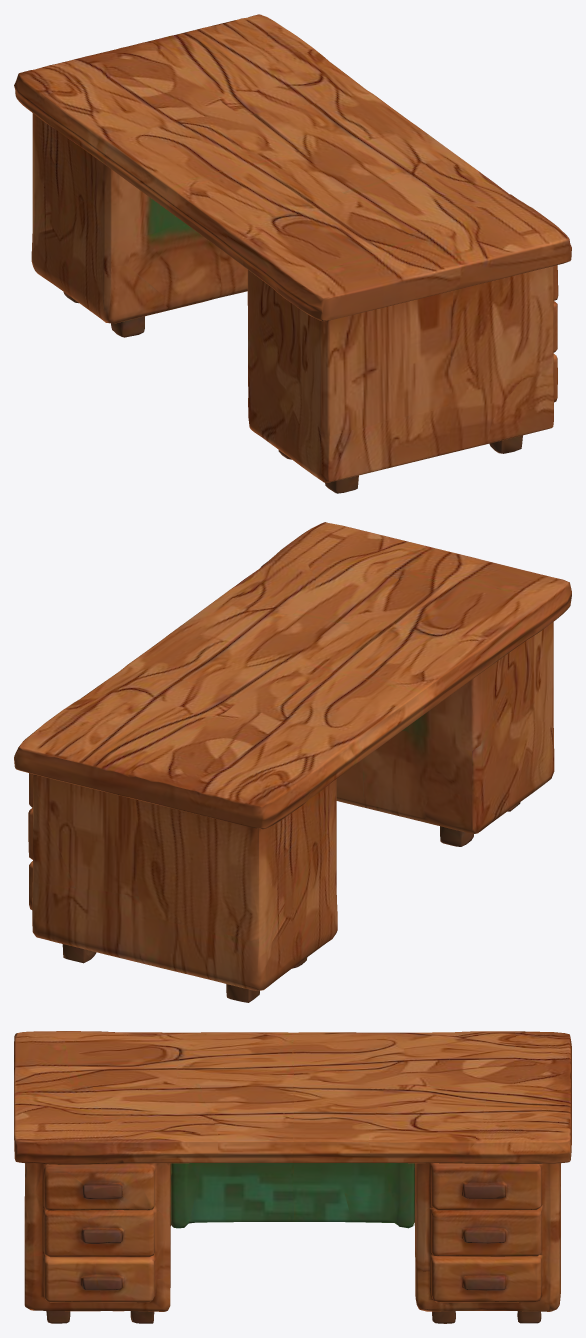
The model's file is desk.glb.
The picture shows the model from 3 angles, top to bottom: view 1: azimuth 30°, elevation 25°; view 2: azimuth 150°, elevation 25°; view 3: azimuth 270°, elevation 25°; orthographic projection. The views are drawn at different scales.
Visible parts, largest first — view 1: tripo_node_b524e549-7a00-4a52-94b5-ff12ed1c0e81; view 2: tripo_node_b524e549-7a00-4a52-94b5-ff12ed1c0e81; view 3: tripo_node_b524e549-7a00-4a52-94b5-ff12ed1c0e81.
Boxes of the visible parts, bbox=[...] form: tripo_node_b524e549-7a00-4a52-94b5-ff12ed1c0e81: bbox=[14, 14, 571, 493]; tripo_node_b524e549-7a00-4a52-94b5-ff12ed1c0e81: bbox=[14, 522, 571, 1002]; tripo_node_b524e549-7a00-4a52-94b5-ff12ed1c0e81: bbox=[14, 1031, 571, 1323].
Size of the model in its own units: 1.28 by 1 by 2.54.
Materials: 1 (1 with a texture image).
